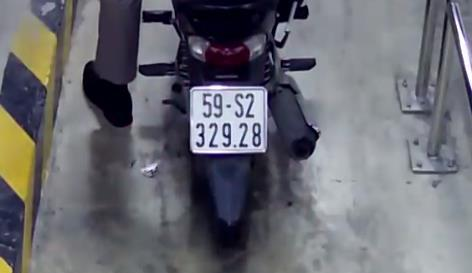lisence: (188, 87, 269, 155)
